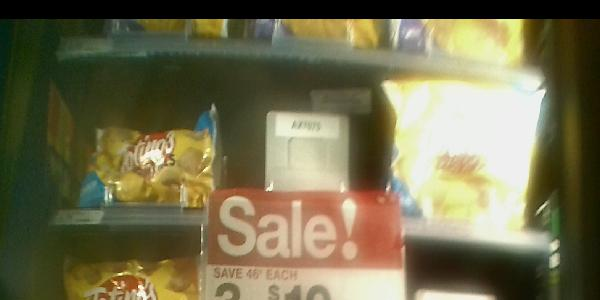icecream: (371, 78, 547, 234), (77, 98, 214, 215)
